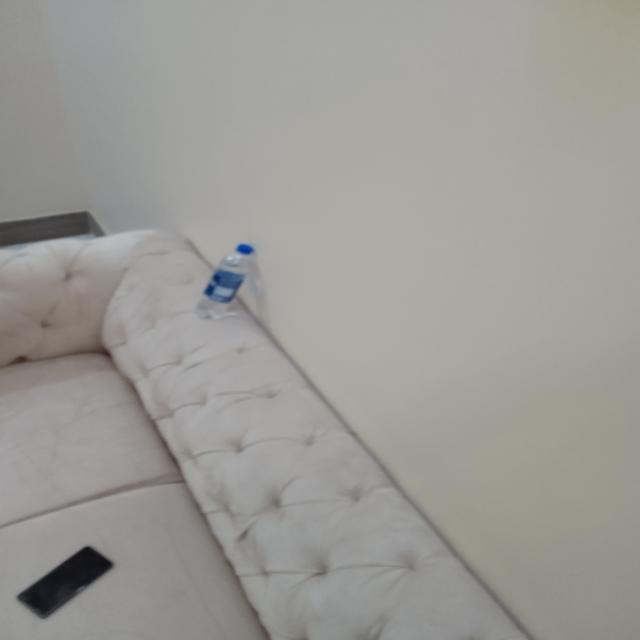Plastic: (197, 243, 252, 317)
